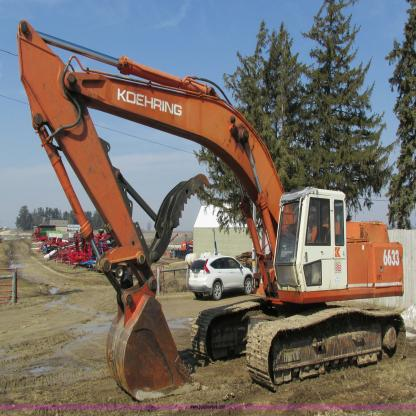excavator: (12, 10, 408, 389)
